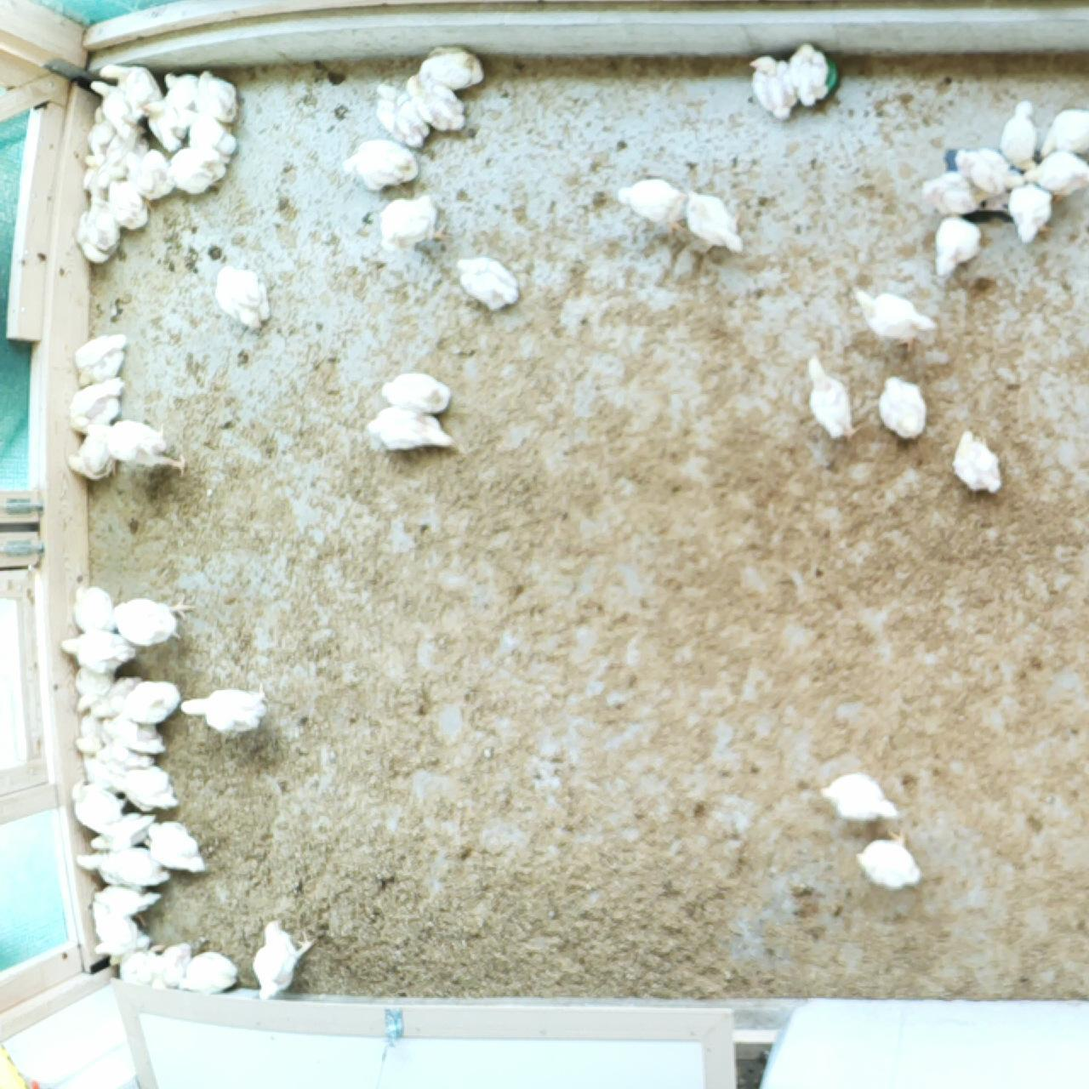chicken: (801, 352, 871, 448), (850, 282, 942, 354), (249, 916, 321, 1006), (91, 419, 190, 480), (176, 679, 272, 739), (814, 765, 903, 826), (849, 823, 927, 892), (104, 590, 198, 647), (613, 171, 691, 239), (362, 402, 459, 454), (374, 193, 453, 255), (948, 424, 1010, 502), (681, 184, 746, 258), (372, 75, 433, 153), (338, 135, 420, 192), (403, 72, 471, 138), (875, 371, 931, 449), (72, 845, 171, 889), (55, 626, 139, 677), (451, 253, 522, 313), (951, 143, 1028, 197), (141, 818, 209, 878), (214, 262, 271, 333), (931, 209, 986, 281), (747, 49, 799, 125), (1006, 177, 1060, 250), (378, 367, 456, 417), (96, 117, 149, 190), (106, 763, 180, 815), (68, 776, 135, 833), (416, 43, 492, 93), (86, 898, 151, 956), (66, 373, 127, 434), (111, 676, 182, 728), (1020, 148, 1089, 201), (165, 142, 228, 200), (918, 169, 994, 216), (72, 331, 129, 391), (1000, 95, 1043, 174), (784, 37, 831, 108), (86, 78, 138, 141), (98, 62, 163, 112), (100, 713, 173, 757), (192, 66, 242, 130), (63, 429, 121, 484), (1036, 105, 1089, 165), (87, 807, 158, 851), (177, 948, 241, 996), (180, 109, 241, 157), (121, 149, 175, 203), (138, 96, 190, 152), (74, 207, 120, 268), (105, 177, 151, 236), (148, 938, 198, 991), (83, 188, 125, 251), (69, 581, 117, 635), (89, 674, 144, 720), (91, 881, 162, 915), (118, 940, 169, 987), (72, 667, 115, 714), (157, 67, 200, 113), (78, 751, 124, 792), (85, 106, 118, 159), (95, 739, 152, 768), (73, 711, 109, 754), (78, 151, 107, 191)
